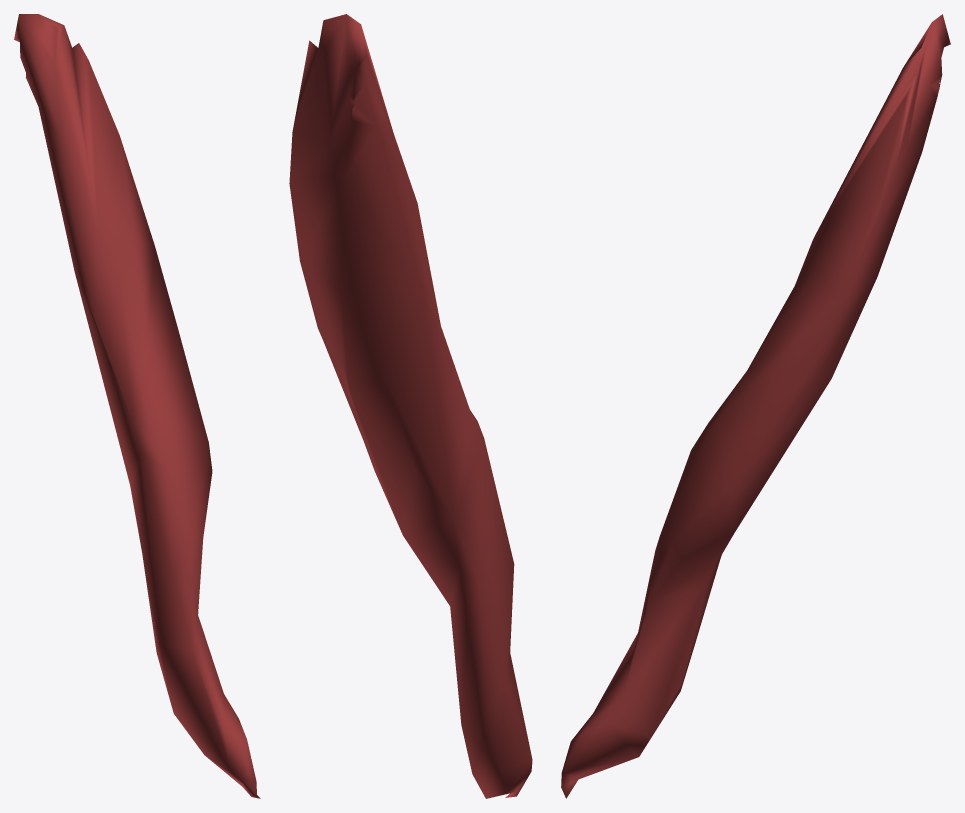
File: palmar-interossei-muscles-r.glb
3 views of the same model, side by side, from view 1: azimuth 30°, elevation 25°; view 2: azimuth 150°, elevation 25°; view 3: azimuth 270°, elevation 25° (orthographic). The views are drawn at different scales.
Visible parts, largest first — view 1: Palmar interossei muscles.r; view 2: Palmar interossei muscles.r; view 3: Palmar interossei muscles.r.
Boxes of the visible parts, x1=… form: Palmar interossei muscles.r: x1=14, y1=14, x2=260, y2=798; Palmar interossei muscles.r: x1=289, y1=14, x2=532, y2=798; Palmar interossei muscles.r: x1=561, y1=14, x2=950, y2=798.
Size of the model in its own units: 0.00566 by 0.0382 by 0.0181.
